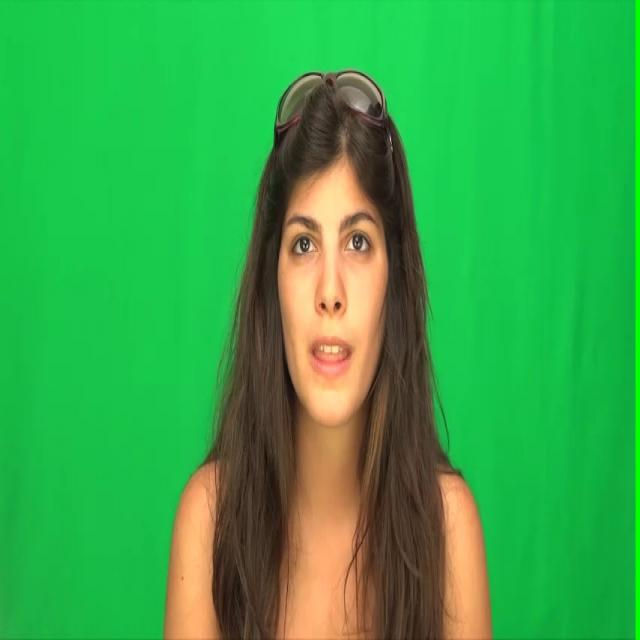Engaged: (281, 146, 393, 418)
